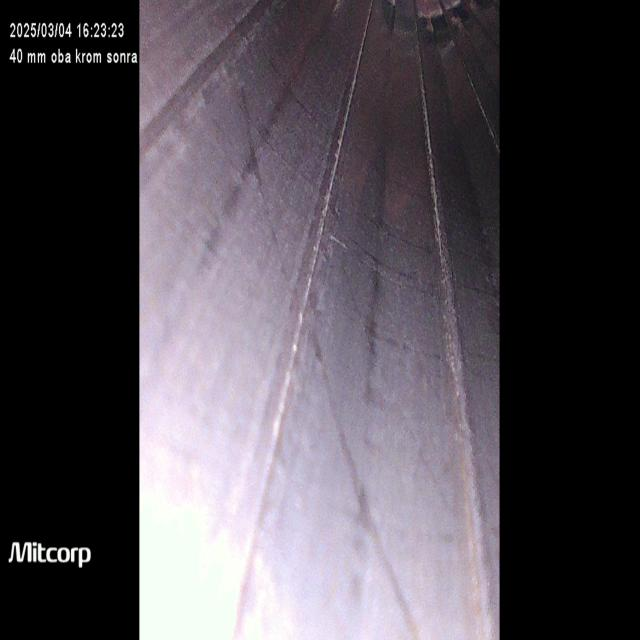hata_8.1: (315, 183, 507, 403)
